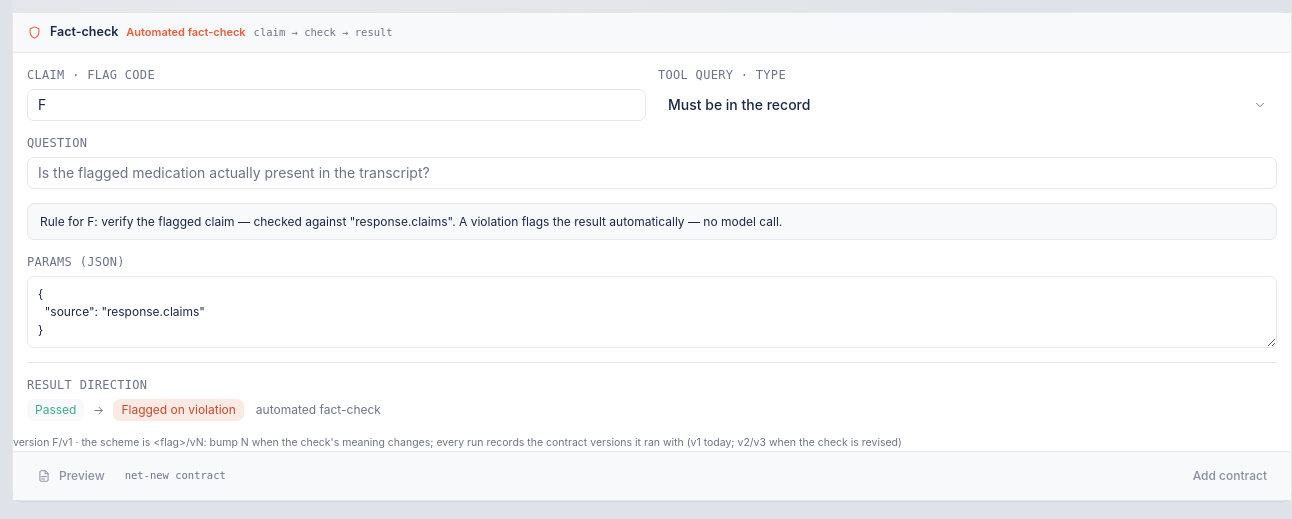
ContractBuilder — reads as rule authorship, not form-filling (INLINE-IMPACT-1) › the 'Rule in English' restatement updates LIVE as the human edits
Step 1. Replace the text in the field named "question" with "Was consent documented?" → [652, 173], box [27,157,1277,189]
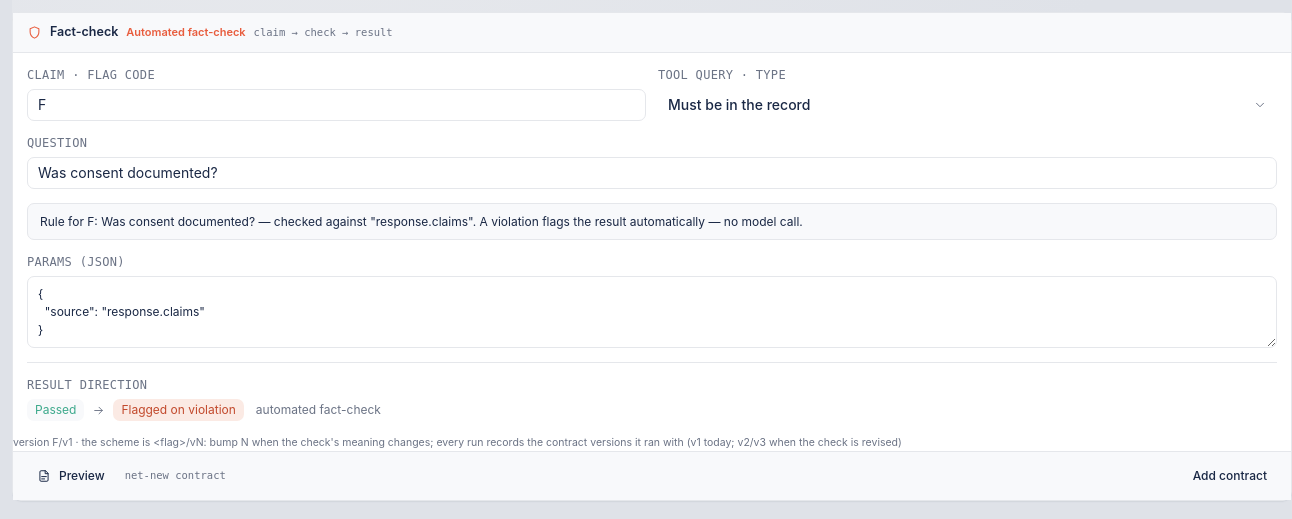
expect the text with test id "rule-in-english" shows "Was consent documented": met, box [40,214,803,229]
